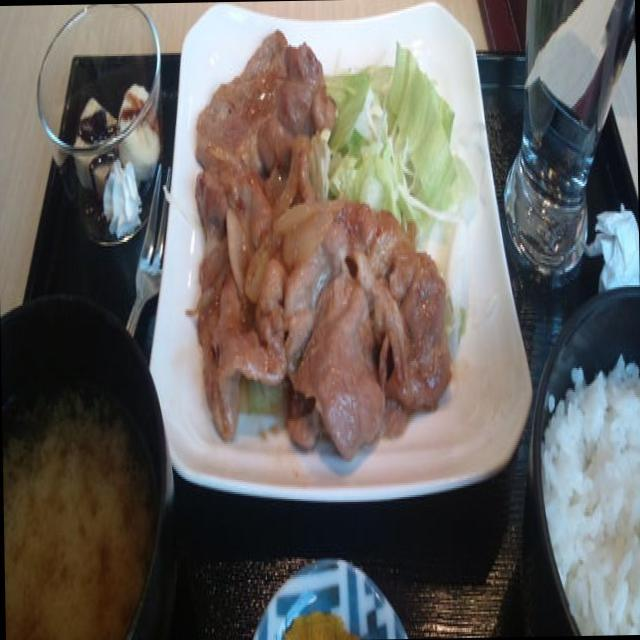Rice: (545, 347, 640, 635)
